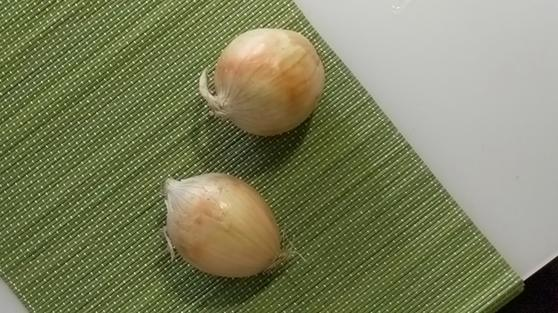onion: (199, 24, 327, 135), (159, 173, 295, 276)
